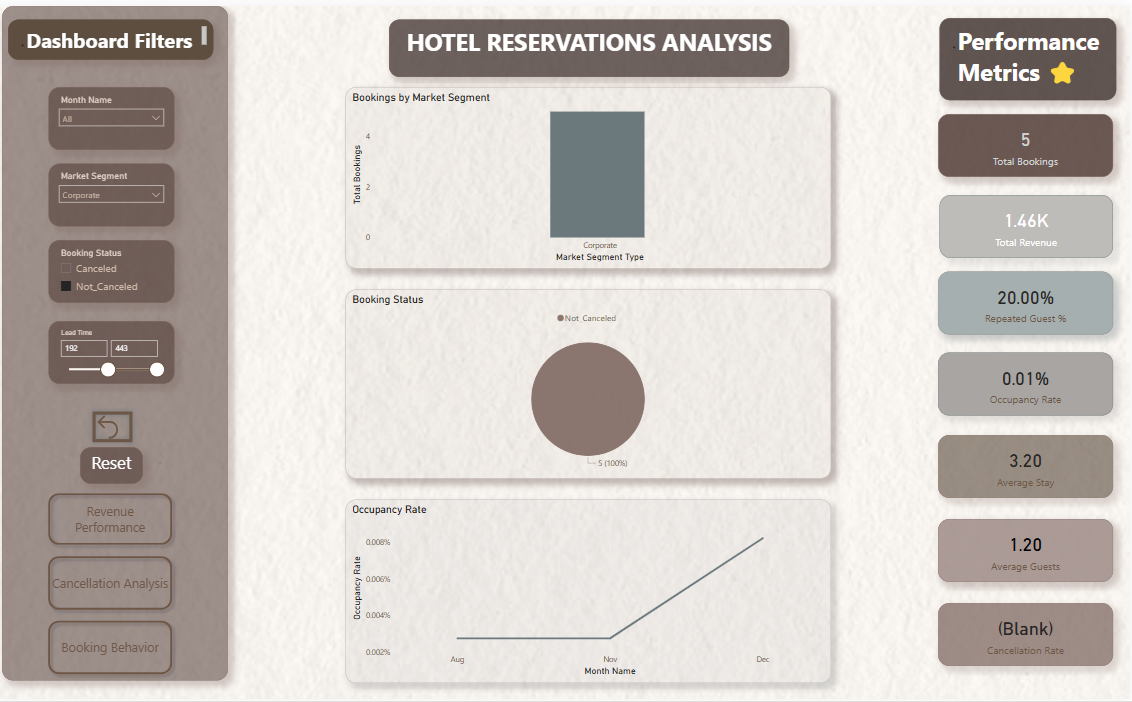

What the dashboard file says about the page in this screenshot:
{"tool":"powerbi","page":{"name":"Page 1","canvas":[1800,1100],"ordinal":0},"visuals":[{"type":"card","fields":{"Values":["Hotel Reservations.Total Bookings"]},"box":[1494.4,172.2,277.8,100],"z":0},{"type":"card","fields":{"Values":["Hotel Reservations.Repeated Guest %"]},"box":[1494.4,422.2,277.8,100],"z":1000},{"type":"card","fields":{"Values":["Hotel Reservations.Total Revenue"]},"box":[1497.2,300,275,100],"z":2000},{"type":"card","fields":{"Values":["Hotel Reservations.Cancellation Rate"]},"box":[1494.4,947.2,277.8,100],"z":3000},{"type":"card","fields":{"Values":["Hotel Reservations.Occupancy Rate"]},"box":[1494.4,550,277.8,100],"z":4000},{"type":"lineChart","title":"Occupancy Rate ","fields":{"Y":["Hotel Reservations.Occupancy Rate"],"Category":["Hotel Reservations.Month Name"]},"box":[555.9,782.4,770.6,291.2],"z":5000},{"type":"card","fields":{"Values":["Hotel Reservations.Average Stay"]},"box":[1494.4,680.6,277.8,100],"z":6000},{"type":"card","fields":{"Values":["Hotel Reservations.Avg Guests"]},"box":[1494.4,813.9,277.8,100],"z":7000},{"type":"pieChart","title":"Booking Status ","fields":{"Category":["Hotel Reservations.booking_status"],"Y":["CountNonNull(Hotel Reservations.Booking_ID)"]},"box":[555.9,450,770.6,300],"z":8000},{"type":"lineStackedColumnComboChart","title":"Bookings by Market Segment","fields":{"Category":["Hotel Reservations.market_segment_type"],"Y":["Hotel Reservations.Total Bookings"]},"box":[555.9,129.4,770.6,288.2],"z":9000},{"type":"textbox","box":[8.8,0,358.8,1070.6],"z":10000},{"type":"textbox","box":[19,21.4,326.2,64.3],"z":11000},{"type":"slicer","fields":{"Values":["Hotel Reservations.Month Name"]},"box":[83.3,128.6,200,100],"z":12000},{"type":"slicer","fields":{"Values":["Hotel Reservations.market_segment_type"]},"box":[83.3,250,200,100],"z":13000},{"type":"slicer","fields":{"Values":["Hotel Reservations.booking_status"]},"box":[83.3,371.4,200,100],"z":14000},{"type":"slicer","fields":{"Values":["Hotel Reservations.lead_time"]},"box":[83.3,500,200,100],"z":15000},{"type":"actionButton","box":[144.1,635.3,79.4,64.7],"z":16000},{"type":"actionButton","title":"Revenue Performance","box":[73.5,764.7,214.7,100],"z":17000},{"type":"actionButton","title":"Revenue Performance","box":[73.5,864.7,214.7,102.9],"z":18000},{"type":"actionButton","title":"Revenue Performance","box":[73.5,967.6,214.7,102.9],"z":19000},{"type":"textbox","box":[623.5,20.6,635.3,91.2],"z":20000},{"type":"textbox","box":[132.4,700,100,58.8],"z":21000},{"type":"textbox","box":[1497.2,19.4,280.6,130.6],"z":22000}]}

Visuals, with their boxes in screenshot pixels (x1, y1, x2, y2), scaled from the page's 1800x1100 canvas onto the 1132x702 screenshot:
card - Hotel Reservations.Total Bookings: Rect(940, 110, 1115, 174)
card - Hotel Reservations.Repeated Guest %: Rect(940, 269, 1115, 333)
card - Hotel Reservations.Total Revenue: Rect(942, 191, 1115, 255)
card - Hotel Reservations.Cancellation Rate: Rect(940, 604, 1115, 668)
card - Hotel Reservations.Occupancy Rate: Rect(940, 351, 1115, 415)
"Occupancy Rate " lineChart: Rect(350, 499, 834, 685)
card - Hotel Reservations.Average Stay: Rect(940, 434, 1115, 498)
card - Hotel Reservations.Avg Guests: Rect(940, 519, 1115, 583)
"Booking Status " pieChart: Rect(350, 287, 834, 479)
"Bookings by Market Segment" lineStackedColumnComboChart: Rect(350, 83, 834, 267)
textbox: Rect(6, 0, 231, 683)
textbox: Rect(12, 14, 217, 55)
slicer - Hotel Reservations.Month Name: Rect(52, 82, 178, 146)
slicer - Hotel Reservations.market_segment_type: Rect(52, 160, 178, 223)
slicer - Hotel Reservations.booking_status: Rect(52, 237, 178, 301)
slicer - Hotel Reservations.lead_time: Rect(52, 319, 178, 383)
actionButton: Rect(91, 405, 141, 447)
"Revenue Performance" actionButton: Rect(46, 488, 181, 552)
"Revenue Performance" actionButton: Rect(46, 552, 181, 618)
"Revenue Performance" actionButton: Rect(46, 618, 181, 683)
textbox: Rect(392, 13, 792, 71)
textbox: Rect(83, 447, 146, 484)
textbox: Rect(942, 12, 1118, 96)
